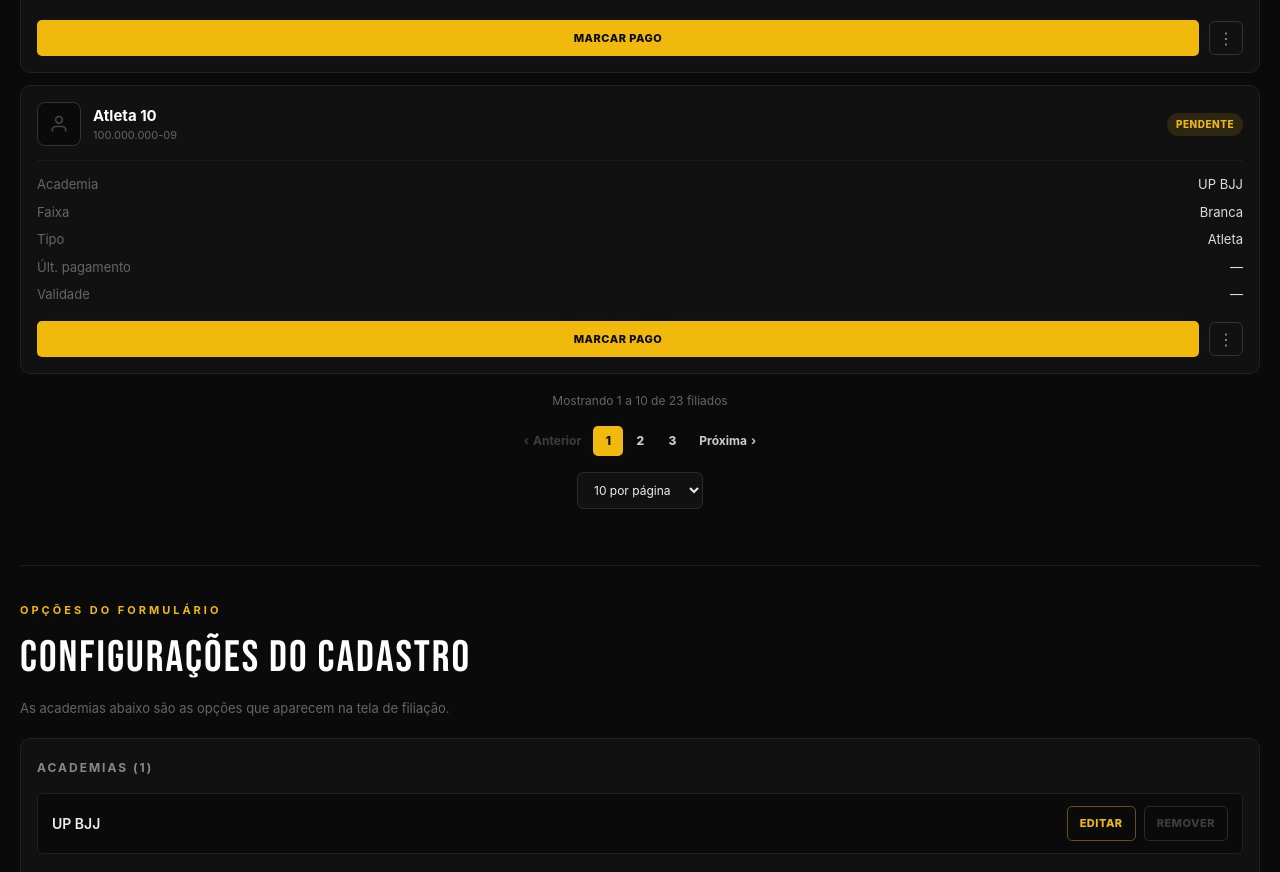
Admin — paginação (mobile) › pagina os cards igual ao desktop
(page scrolled)
Expected: the text "Mostrando 1 a 10 de 23 filiados" is shown, [552,392,728,410]
Click the button with aria-label "próxima página": (728, 441) [689,424,766,458]
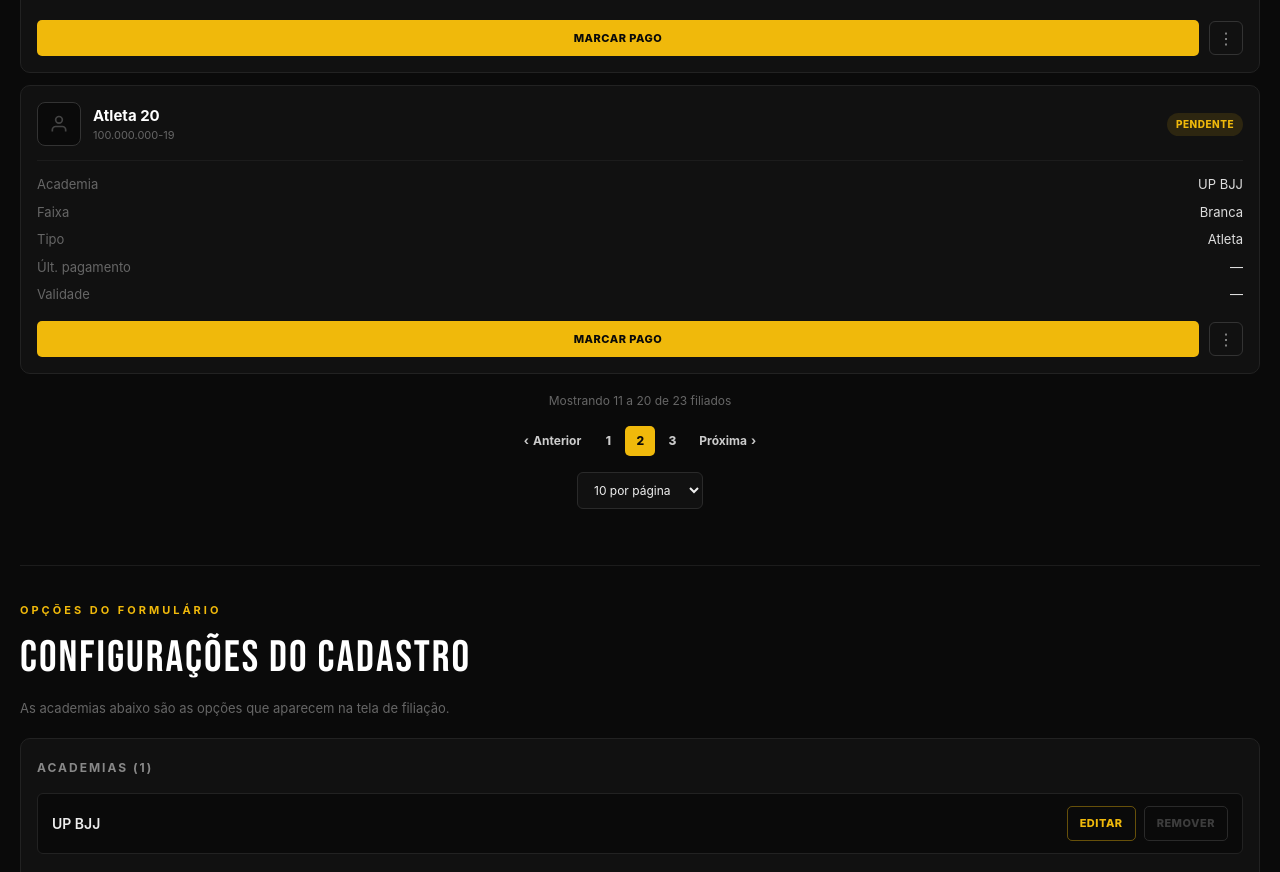
Expected: the text "Mostrando 11 a 20 de 23 filiados" is shown, [549,392,731,410]
